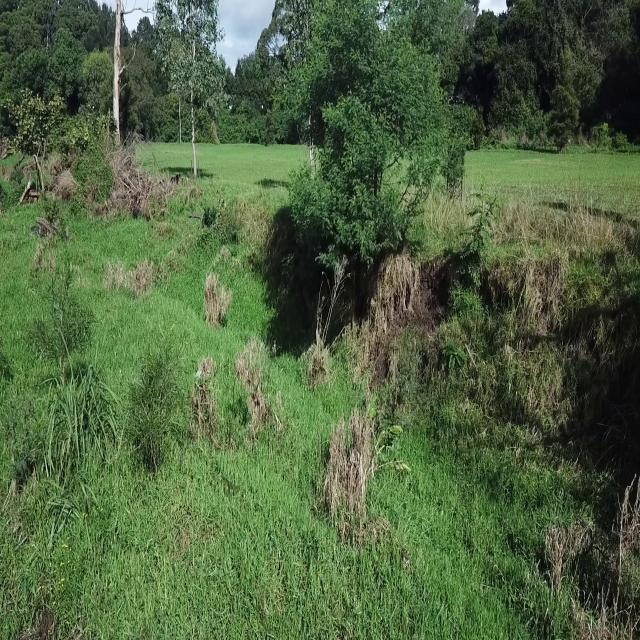Mysore-Thorn-Weed: (448, 180, 502, 319), (440, 338, 467, 373)
